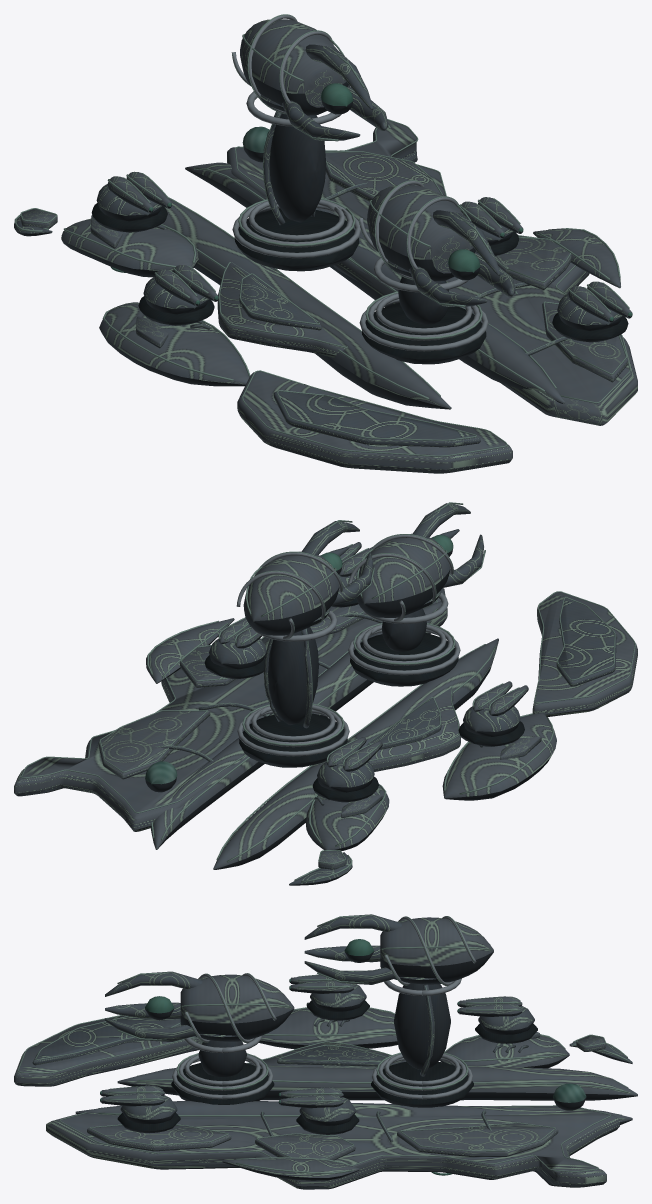
The model's file is GGA0402_source.obj.
3 renders of one model, top to bottom at view 1: azimuth 30°, elevation 25°; view 2: azimuth 150°, elevation 25°; view 3: azimuth 270°, elevation 25°, orthographic. The views are drawn at different scales.
Parts seen in each view (by area): view 1: GGA0402, ForeLeftShard, MainForePitch, MainAftPitch, PortIsland, PortAftIsland, StarboardTip, AA2Pitch, AA1Pitch, AA4Pitch, AA3Pitch, AA4Yaw (+5 smaller); view 2: GGA0402, ForeLeftShard, MainAftPitch, MainForePitch, PortIsland, PortAftIsland, StarboardTip, AA3Yaw, AA4Yaw, AA2Yaw, AA2Pitch, AA4Pitch (+5 smaller); view 3: GGA0402, MainAftPitch, MainForePitch, ForeLeftShard, PortIsland, PortAftIsland, StarboardTip, AA3Pitch, AA4Pitch, AA1Pitch, AA1Yaw, AA4Yaw (+6 smaller).
Part boxes in pixels (x1=…): GGA0402: x1=162, y1=111, x2=637, y2=425; ForeLeftShard: x1=237, y1=370, x2=512, y2=473; MainForePitch: x1=359, y1=180, x2=517, y2=307; MainAftPitch: x1=231, y1=14, x2=390, y2=141; PortIsland: x1=99, y1=296, x2=250, y2=386; PortAftIsland: x1=14, y1=203, x2=198, y2=277; StarboardTip: x1=533, y1=228, x2=620, y2=288; AA2Pitch: x1=154, y1=265, x2=218, y2=306; AA1Pitch: x1=568, y1=281, x2=632, y2=322; AA4Pitch: x1=107, y1=171, x2=171, y2=213; AA3Pitch: x1=459, y1=197, x2=523, y2=238; AA4Yaw: x1=96, y1=183, x2=161, y2=221; GGA0402: x1=14, y1=588, x2=498, y2=869; ForeLeftShard: x1=532, y1=591, x2=637, y2=716; MainAftPitch: x1=236, y1=520, x2=374, y2=639; MainForePitch: x1=348, y1=502, x2=485, y2=621; PortIsland: x1=442, y1=712, x2=556, y2=800; PortAftIsland: x1=289, y1=776, x2=389, y2=885; StarboardTip: x1=146, y1=618, x2=234, y2=683; AA3Yaw: x1=209, y1=638, x2=266, y2=669; AA4Yaw: x1=317, y1=762, x2=374, y2=792; AA2Yaw: x1=463, y1=706, x2=520, y2=736; AA2Pitch: x1=472, y1=681, x2=528, y2=715; AA4Pitch: x1=326, y1=737, x2=382, y2=771; GGA0402: x1=46, y1=983, x2=637, y2=1189; MainAftPitch: x1=304, y1=914, x2=493, y2=985; MainForePitch: x1=105, y1=971, x2=294, y2=1043; ForeLeftShard: x1=14, y1=1015, x2=202, y2=1086; PortIsland: x1=259, y1=1000, x2=397, y2=1049; PortAftIsland: x1=439, y1=1023, x2=632, y2=1068; StarboardTip: x1=222, y1=1157, x2=359, y2=1180; AA3Pitch: x1=278, y1=1087, x2=343, y2=1108; AA4Pitch: x1=457, y1=996, x2=522, y2=1016; AA1Pitch: x1=100, y1=1085, x2=164, y2=1106; AA1Yaw: x1=120, y1=1095, x2=177, y2=1124; AA4Yaw: x1=478, y1=1005, x2=534, y2=1034.
Bounding box in the file's own units: 39.51 × 21.45 × 59.35.
1 material, 1 textured.
